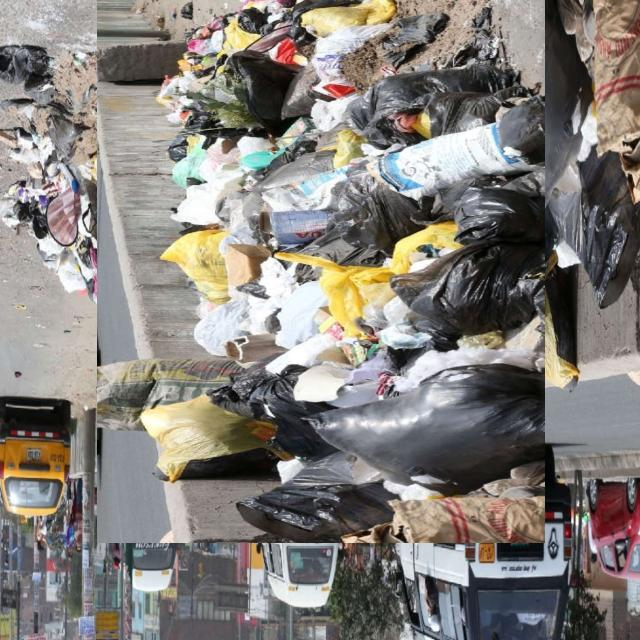garbage: (50, 0, 593, 496)
